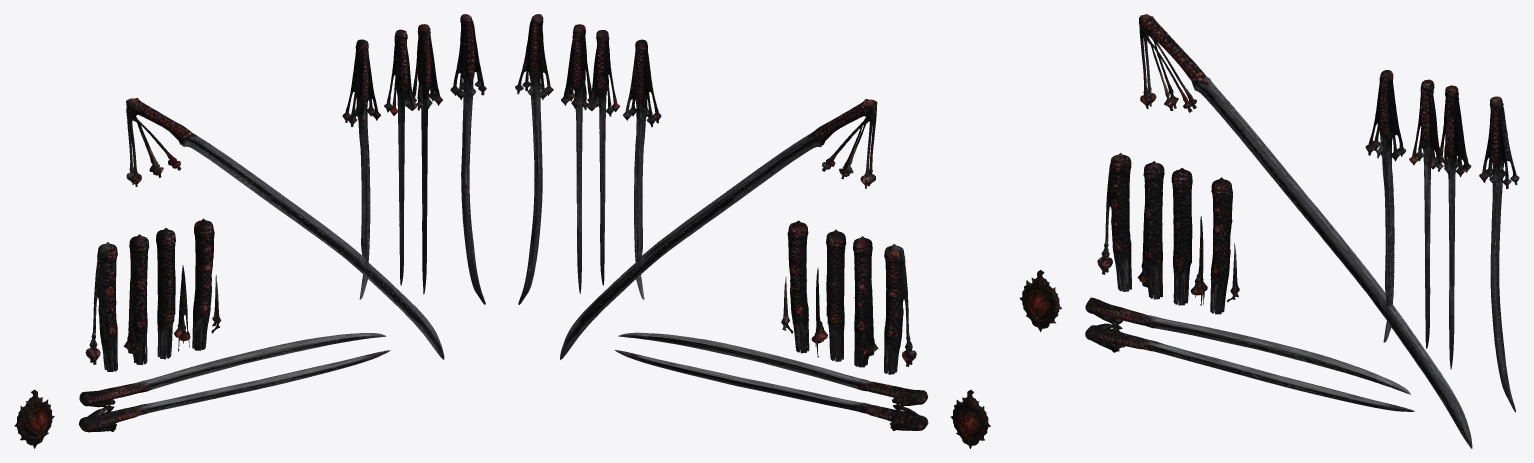
Rendered from odachi-lidia.glb.
3 views of the same model, side by side, from view 1: azimuth 30°, elevation 25°; view 2: azimuth 150°, elevation 25°; view 3: azimuth 330°, elevation 25° (orthographic). The views are drawn at different scales.
Visible parts, largest first — view 1: node_0; view 2: node_0; view 3: node_0.
Part boxes in pixels (bbox=[...]): node_0: bbox=[14, 14, 486, 448]; node_0: bbox=[515, 14, 990, 448]; node_0: bbox=[1019, 14, 1519, 448].
Bounding box in the file's own units: 1.04 × 0.7135 × 0.055.
1 material, 1 textured.
